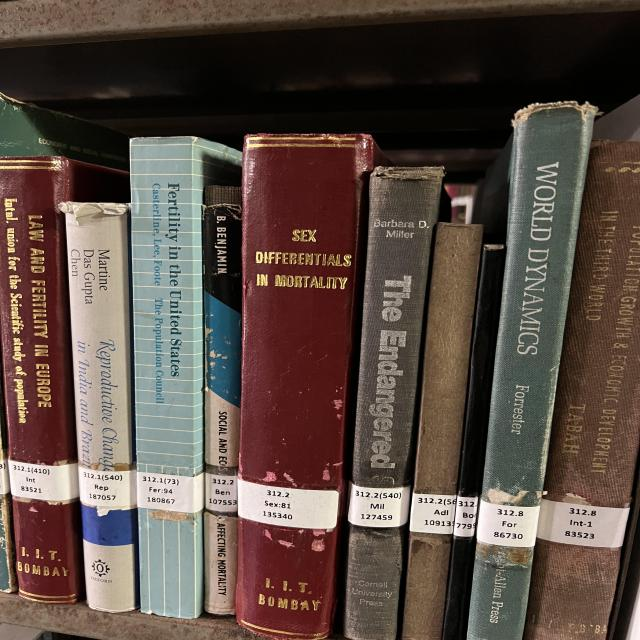Book: (237, 135, 387, 640), (467, 101, 597, 640), (523, 141, 640, 640), (0, 156, 128, 604), (130, 136, 242, 619), (345, 168, 442, 640), (402, 224, 482, 640), (58, 202, 138, 612), (442, 244, 505, 640)
Label: (238, 479, 340, 529), (537, 499, 630, 548), (477, 500, 540, 548), (8, 460, 78, 501), (348, 484, 410, 528), (137, 471, 203, 512), (78, 466, 137, 509), (410, 492, 457, 534), (205, 472, 238, 512), (453, 496, 478, 538)
